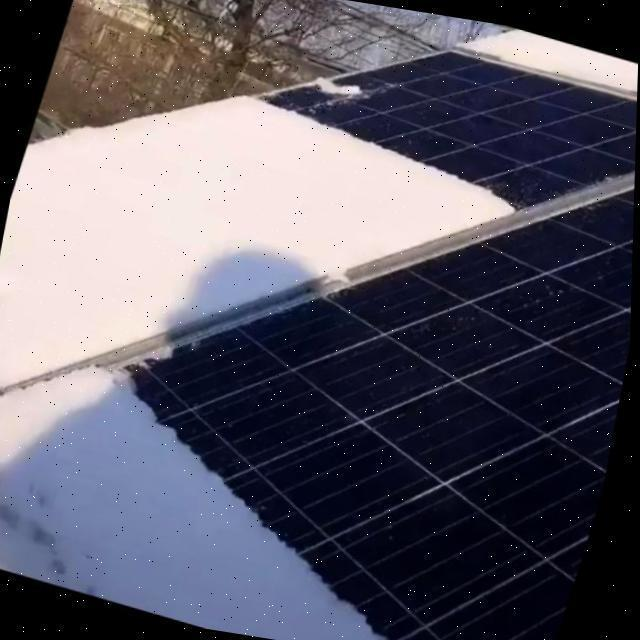Anomaly Solar Panel: (0, 185, 636, 640), (0, 44, 638, 399)
Snow: (0, 87, 517, 399), (0, 375, 396, 640)
